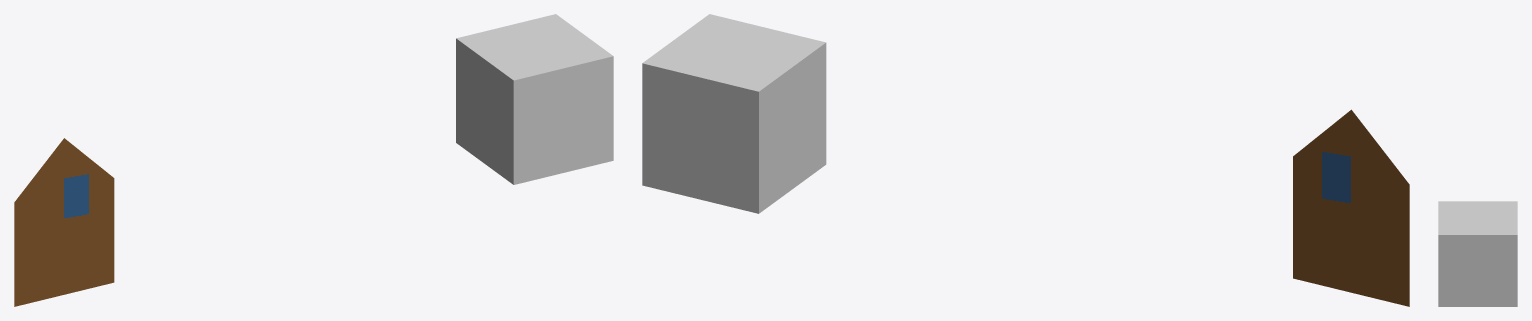
The model's file is faceme-small-two.dae.
3 renders of one model, left to right at view 1: azimuth 30°, elevation 25°; view 2: azimuth 150°, elevation 25°; view 3: azimuth 270°, elevation 25°, orthographic. The views are drawn at different scales.
Parts seen in each view (by area): view 1: box, tree; view 2: box, tree; view 3: box.
Part boxes in pixels (x1,y1,x2,y2): box: (456,14,613,184); tree: (14,138,114,306); box: (642,14,826,213); tree: (1293,109,1409,306); box: (1438,201,1517,306).
Bounding box in the file's own units: 6 × 1 × 1.5.
Materials: 1 (1 with a texture image).
